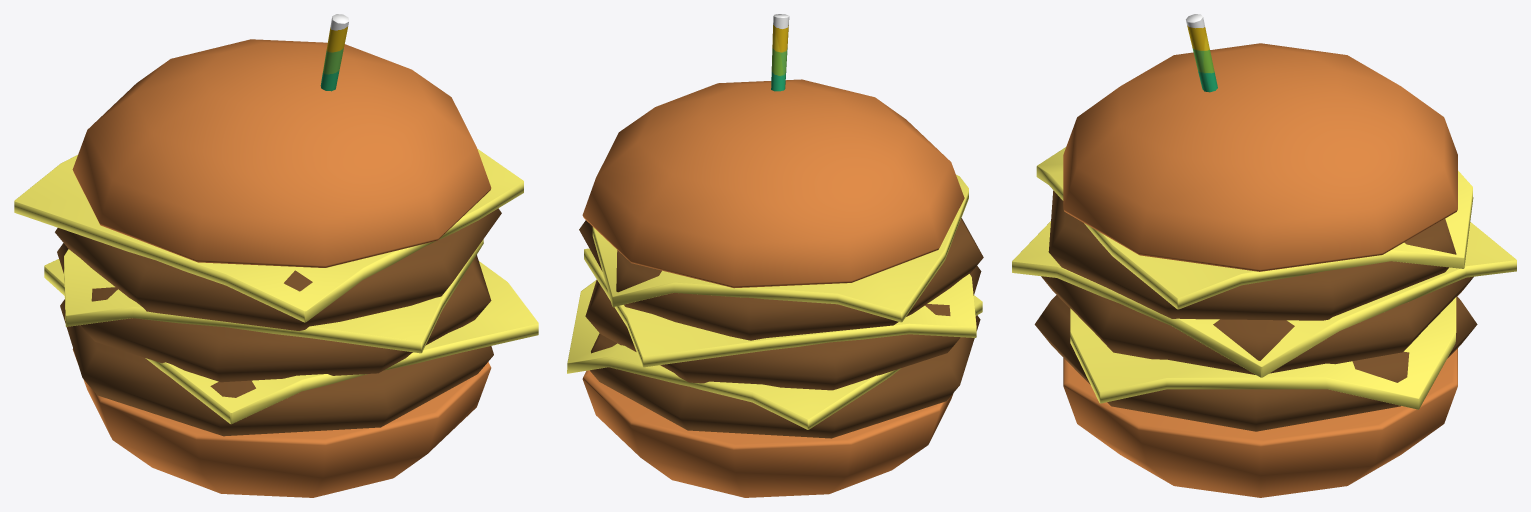
File: SM_Burger.fbx
3 renders of one model, left to right at view 1: azimuth 30°, elevation 25°; view 2: azimuth 150°, elevation 25°; view 3: azimuth 270°, elevation 25°, orthographic. The views are drawn at different scales.
Visible parts, largest first — view 1: SM_Burger; view 2: SM_Burger; view 3: SM_Burger.
Boxes of the visible parts, bbox=[...] form: SM_Burger: bbox=[14, 14, 538, 497]; SM_Burger: bbox=[567, 14, 983, 497]; SM_Burger: bbox=[1012, 14, 1516, 497].
Size of the model in its own units: 15.42 by 16.32 by 16.55.
